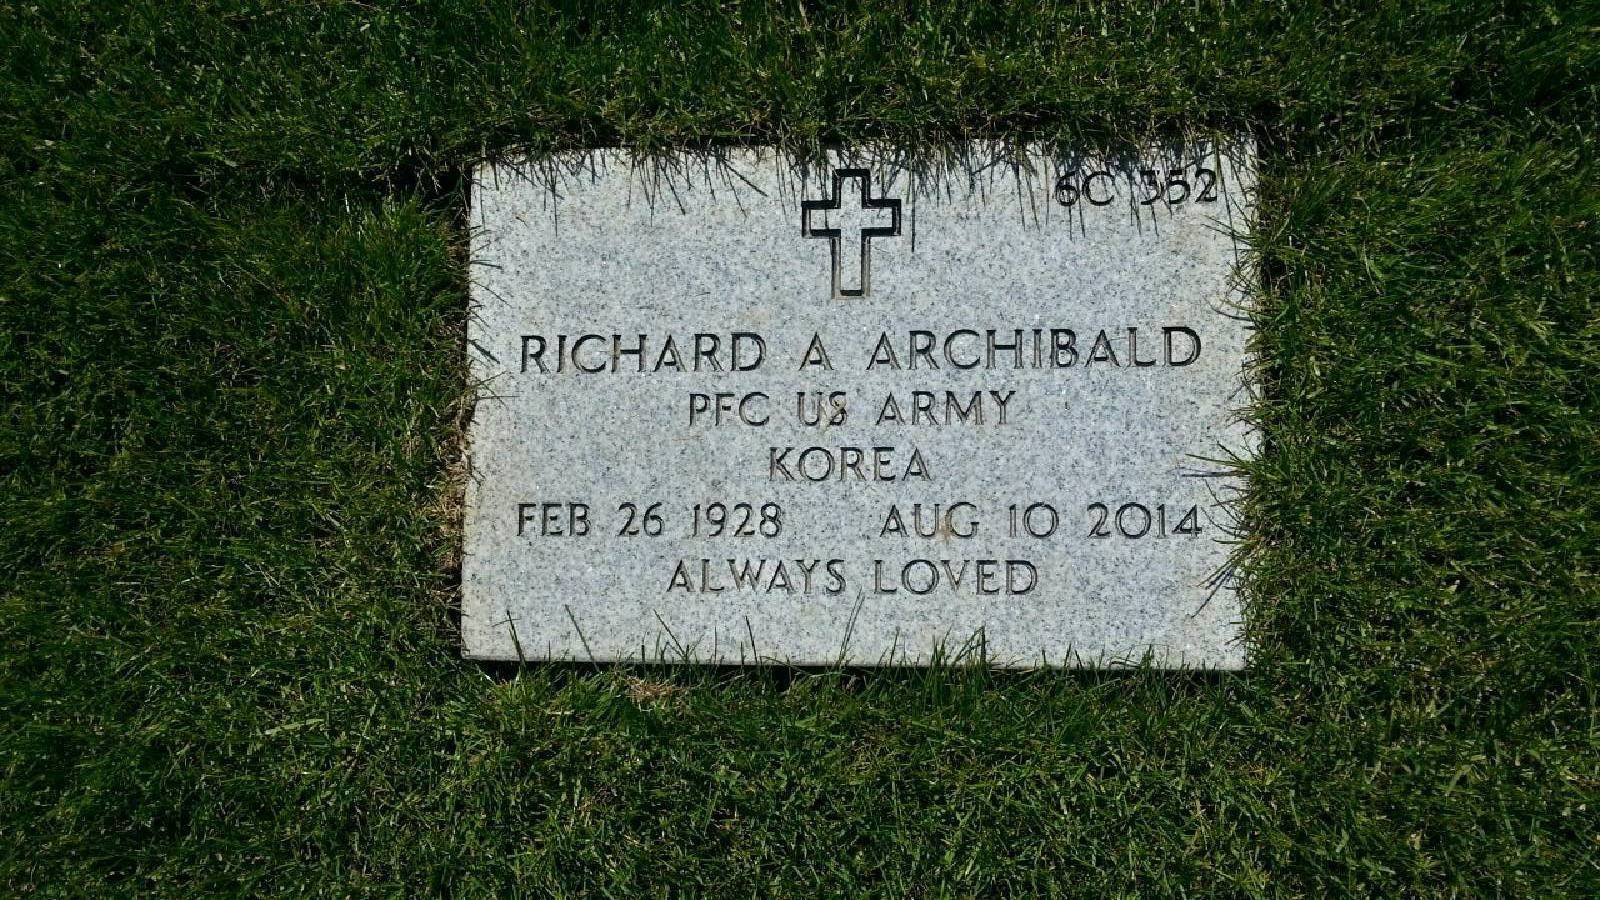flat: (452, 140, 1273, 682)
